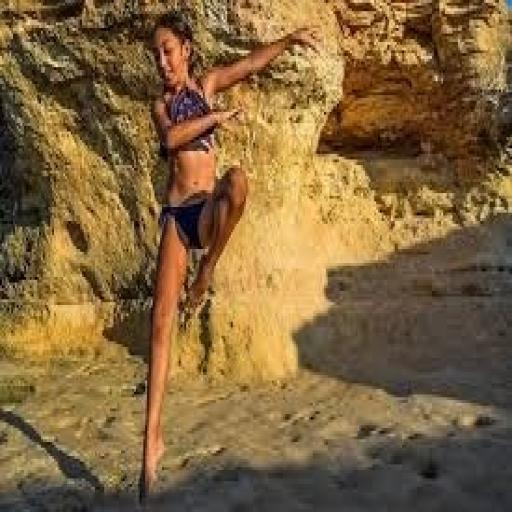dancing: (136, 8, 324, 501)
